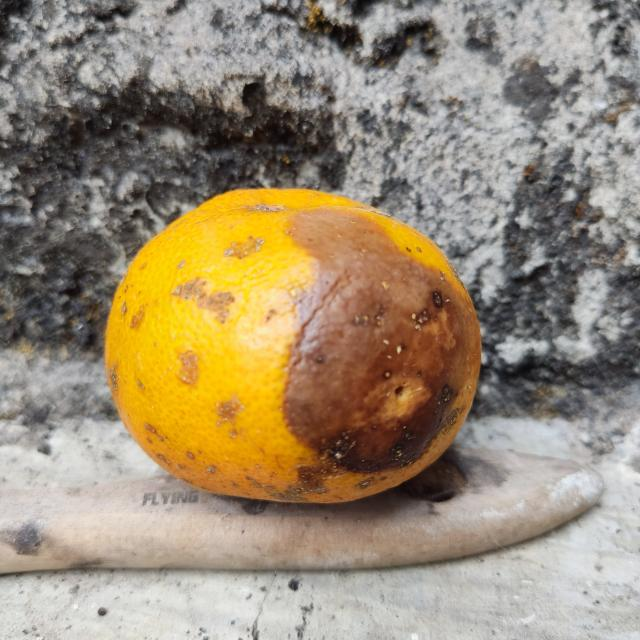orange: (100, 185, 483, 505)
